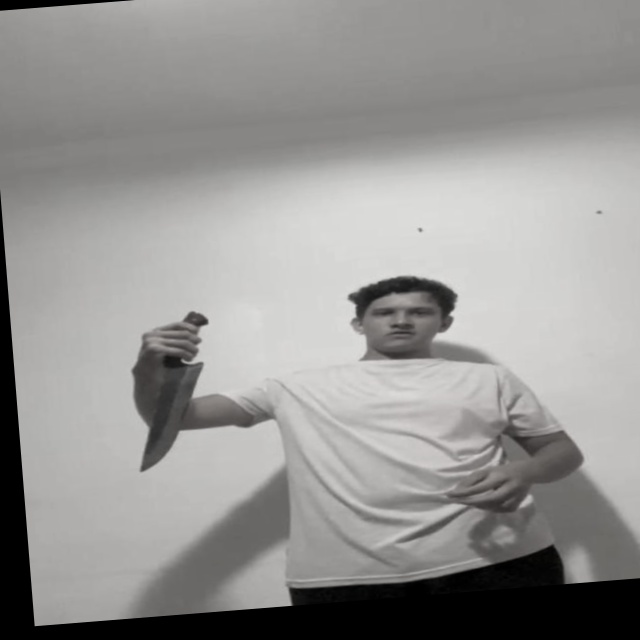Sharp-Object: (127, 361, 217, 471)
